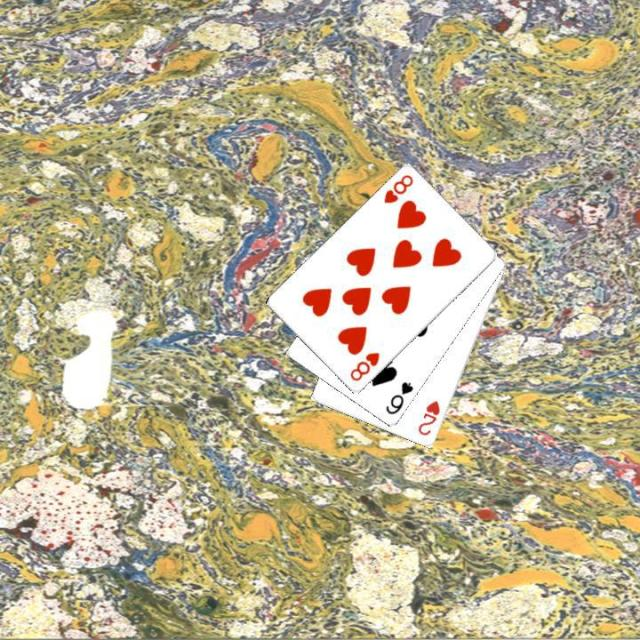2H: (414, 397, 442, 438)
6S: (381, 378, 415, 417)
8H: (346, 349, 381, 383), (380, 171, 415, 205)
